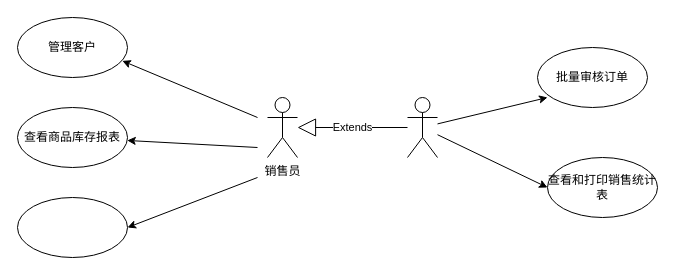
Some shapes in this 675 by 275 pixel diagram are drawn without their labels. The centre of each missing label's shape, as x and y in pixels:
"对订单的增删改查" goes at (72,227).
"销售经理" goes at (422,127).
